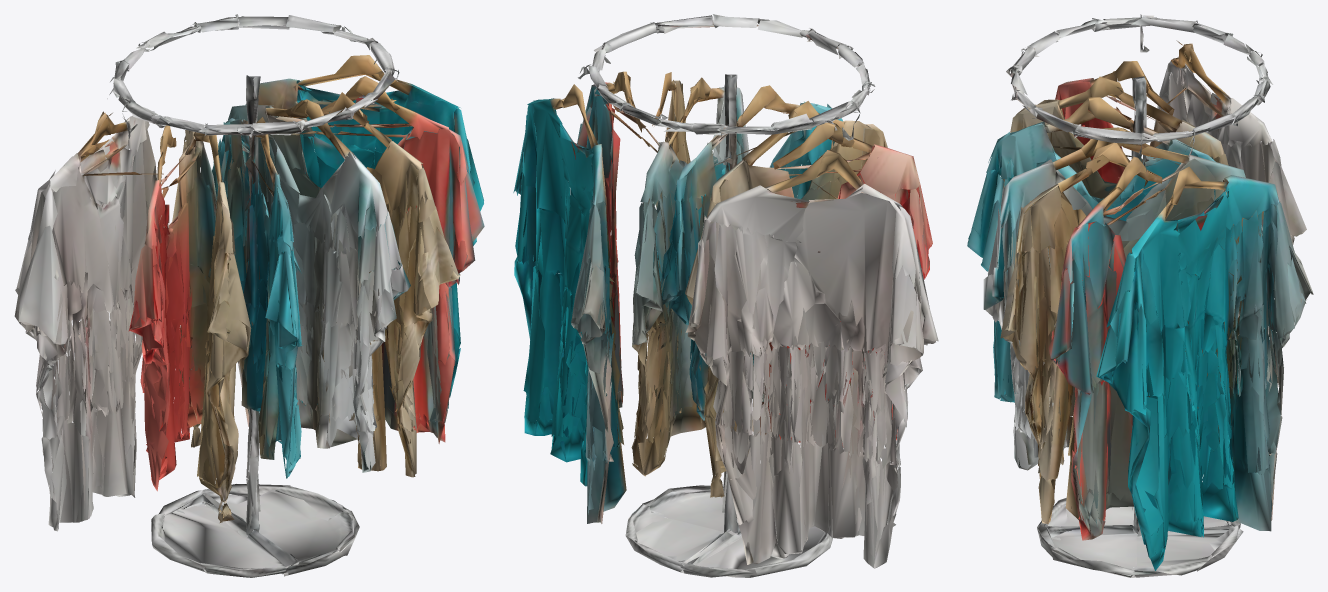
File: CCG_KaftanRack.fbx
The picture shows the model from 3 angles, left to right: view 1: azimuth 30°, elevation 25°; view 2: azimuth 150°, elevation 25°; view 3: azimuth 270°, elevation 25°; orthographic projection.
Parts seen in each view (by area): view 1: tripo_node_46df1e47-5c03-49d9-b90c-62bcb46ba125; view 2: tripo_node_46df1e47-5c03-49d9-b90c-62bcb46ba125; view 3: tripo_node_46df1e47-5c03-49d9-b90c-62bcb46ba125.
Boxes of the visible parts, bbox=[...] form: tripo_node_46df1e47-5c03-49d9-b90c-62bcb46ba125: bbox=[14, 14, 484, 577]; tripo_node_46df1e47-5c03-49d9-b90c-62bcb46ba125: bbox=[513, 14, 938, 577]; tripo_node_46df1e47-5c03-49d9-b90c-62bcb46ba125: bbox=[967, 14, 1313, 577].
Size of the model in its own units: 0.9758 by 0.9831 by 0.6629.
Materials: 1 (1 with a texture image).
